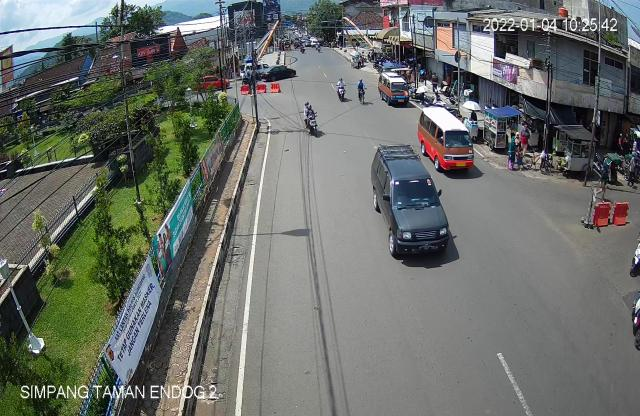Mobil: (370, 142, 454, 271), (418, 106, 476, 183), (373, 69, 411, 109)
Motor: (302, 102, 322, 135), (332, 72, 348, 101)
